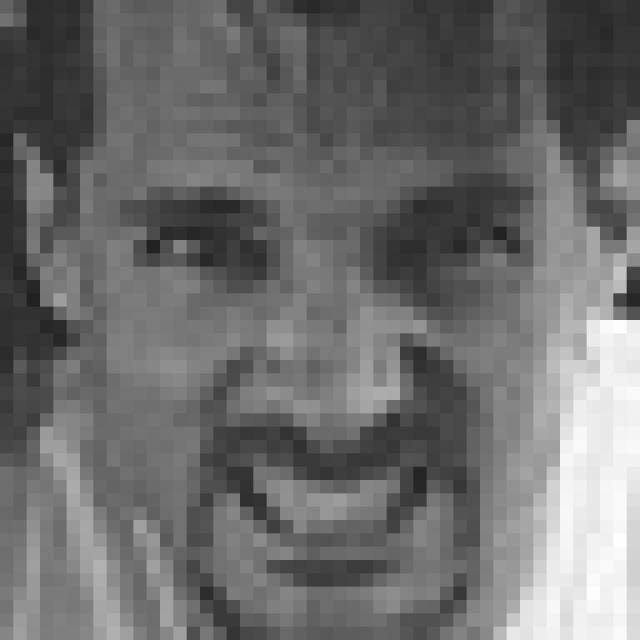angry: (107, 176, 544, 587)
